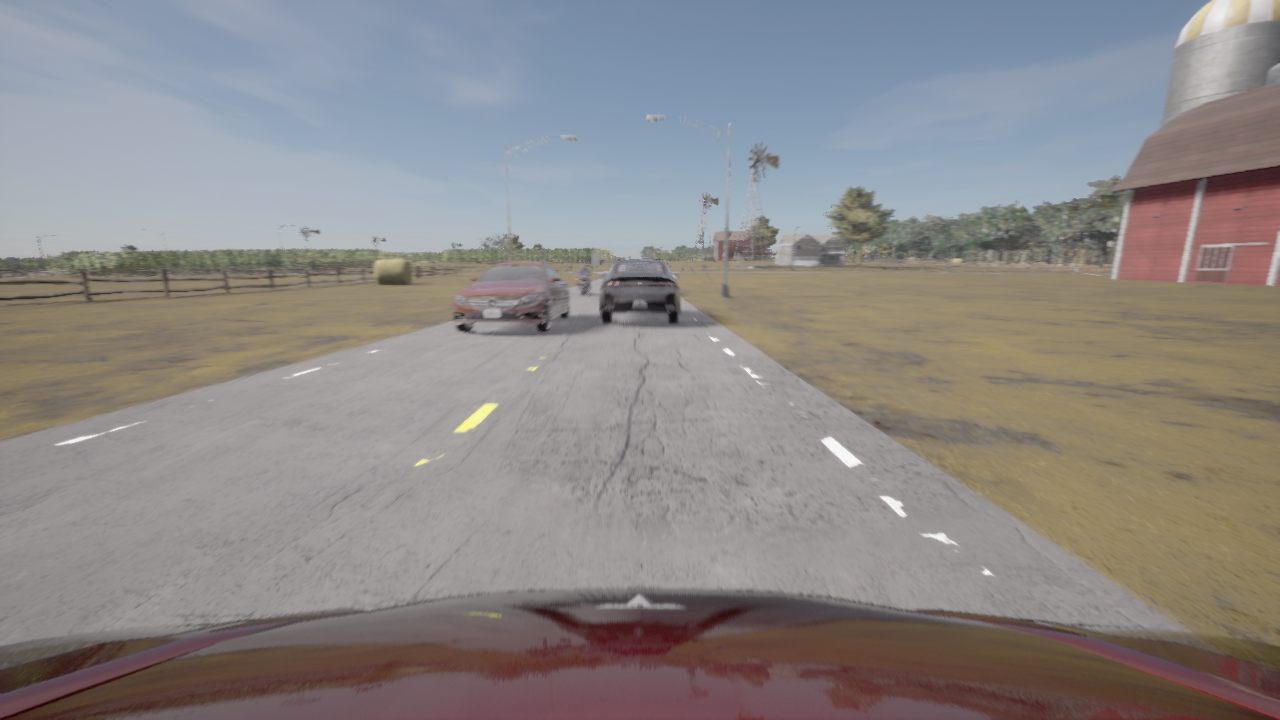cyclist: (0, 588, 1279, 719), (452, 261, 569, 332), (600, 260, 679, 322), (575, 270, 590, 295)
